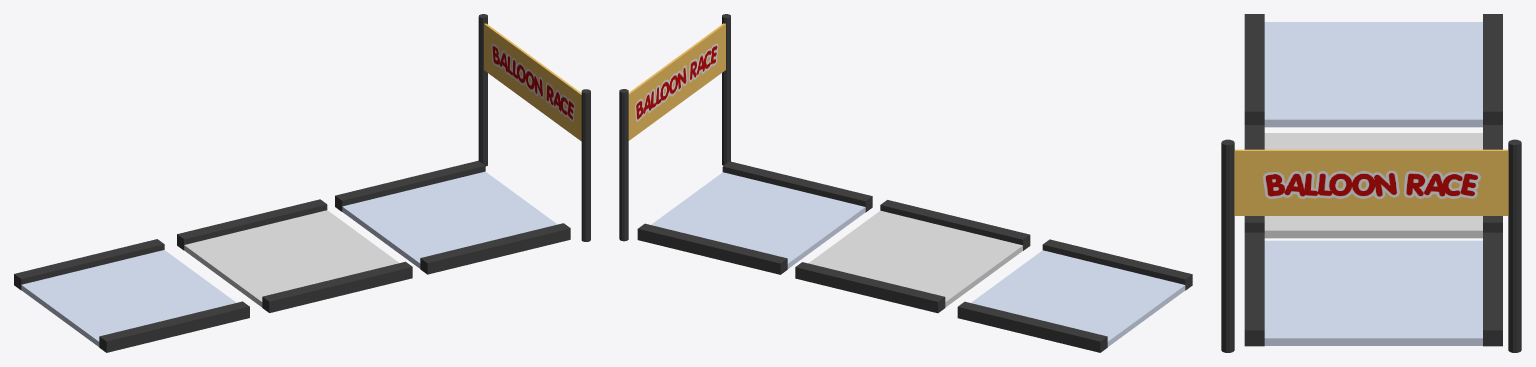
File: START (1).fbx
3 renders of one model, left to right at view 1: azimuth 30°, elevation 25°; view 2: azimuth 150°, elevation 25°; view 3: azimuth 270°, elevation 25°, orthographic. The views are drawn at different scales.
Parts seen in each view (by area): view 1: Cube.002, Cube, Cube.005, Cube.004, Cube.006, Cube.001, Cube.003, Cylinder.002, Cylinder.001; view 2: Cube, Cube.005, Cube.002, Cube.004, Cube.006, Cube.001, Cube.003, Cylinder.001, Cylinder.002; view 3: Cube, Cube.005, Cube.004, Cube.002, Cube.001, Cube.006, Cylinder.001, Cylinder.002, Cube.003.
Part boxes in pixels (x1=…): Cube.002: x1=184, y1=210, x2=399, y2=307; Cube: x1=342, y1=171, x2=557, y2=268; Cube.005: x1=21, y1=250, x2=236, y2=346; Cube.004: x1=484, y1=23, x2=581, y2=141; Cube.006: x1=14, y1=239, x2=249, y2=352; Cube.001: x1=335, y1=160, x2=570, y2=274; Cube.003: x1=177, y1=199, x2=412, y2=312; Cylinder.002: x1=581, y1=89, x2=590, y2=241; Cylinder.001: x1=478, y1=14, x2=487, y2=166; Cube: x1=651, y1=172, x2=865, y2=268; Cube.005: x1=971, y1=250, x2=1185, y2=346; Cube.002: x1=808, y1=210, x2=1022, y2=307; Cube.004: x1=628, y1=23, x2=725, y2=140; Cube.006: x1=957, y1=239, x2=1192, y2=352; Cube.001: x1=637, y1=161, x2=872, y2=274; Cube.003: x1=795, y1=200, x2=1030, y2=313; Cylinder.001: x1=619, y1=89, x2=628, y2=241; Cylinder.002: x1=722, y1=14, x2=730, y2=165; Cube: x1=1264, y1=240, x2=1482, y2=345; Cube.005: x1=1264, y1=22, x2=1482, y2=127; Cube.004: x1=1234, y1=149, x2=1508, y2=215; Cube.002: x1=1264, y1=133, x2=1482, y2=238; Cube.001: x1=1244, y1=232, x2=1502, y2=346; Cube.006: x1=1244, y1=14, x2=1502, y2=124; Cylinder.001: x1=1508, y1=139, x2=1521, y2=352; Cylinder.002: x1=1221, y1=139, x2=1234, y2=352; Cube.003: x1=1244, y1=125, x2=1502, y2=232.
Bounding box in the file's own units: 24.64 × 7.42 × 9.61.
Materials: 4 (1 with a texture image).
